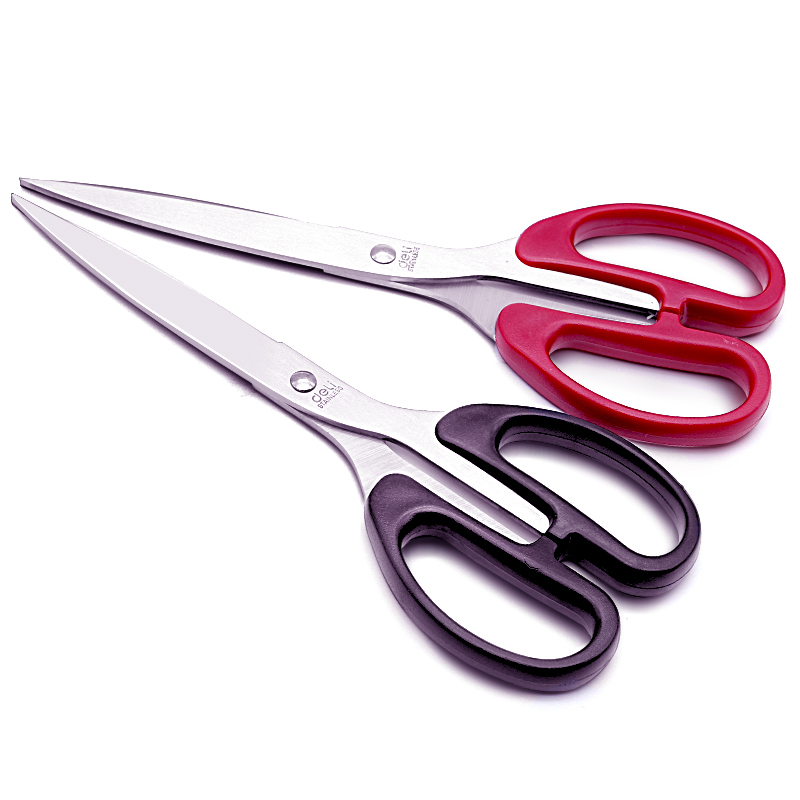scissors: (6, 188, 706, 711), (10, 163, 793, 456)
